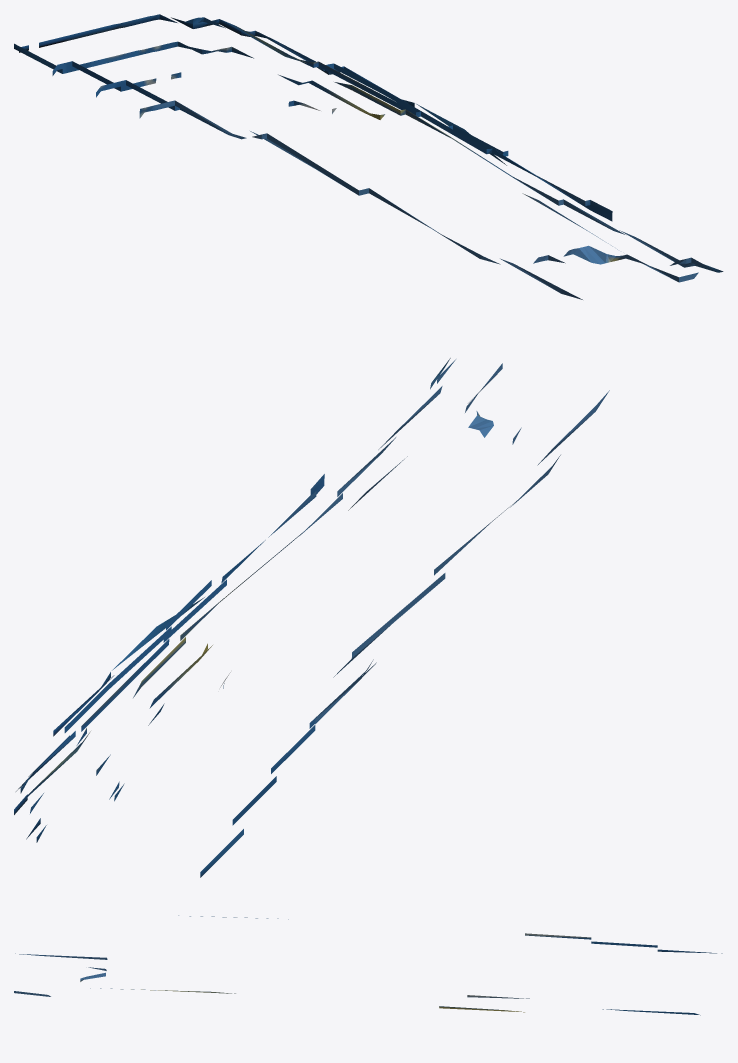
The model's file is frame_00353.glb.
3 renders of one model, top to bottom at view 1: azimuth 30°, elevation 25°; view 2: azimuth 150°, elevation 25°; view 3: azimuth 270°, elevation 25°, orthographic. The views are drawn at different scales.
Visible parts, largest first — view 1: geometry_0; view 2: geometry_0; view 3: geometry_0.
Boxes of the visible parts, x1=… form: geometry_0: x1=14, y1=14, x2=723, y2=299; geometry_0: x1=14, y1=358, x2=609, y2=877; geometry_0: x1=14, y1=915, x2=722, y2=1015.
Size of the model in its own units: 0.0495 by 0.013 by 0.16.
1 material, 1 textured.
